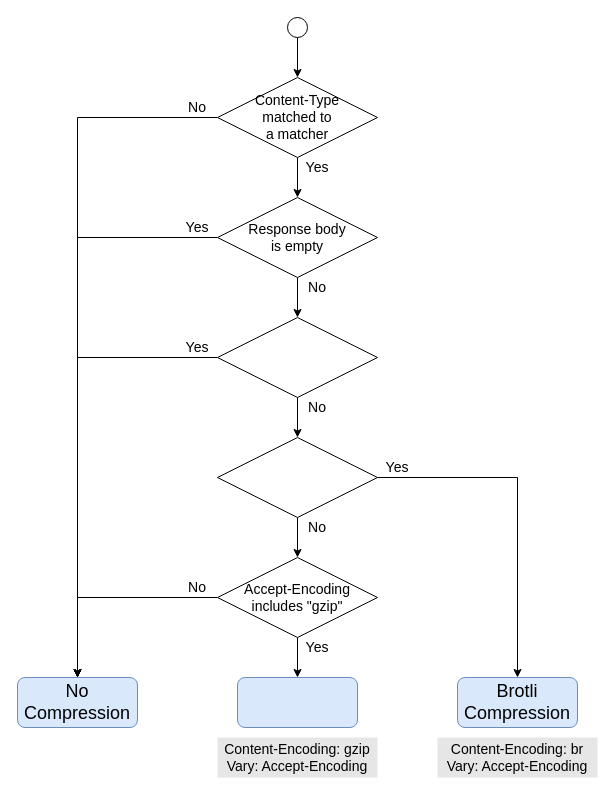
This 615x795 diagram has some shape labels left out. The shapes that lost their labels are listed below. From the top down, each one's centre as x and y in pixels, then its label:
the point at 297,357: Response already compressed
the point at 297,477: Accept-Encoding includes "br"
the point at 297,702: Gzip Compression
